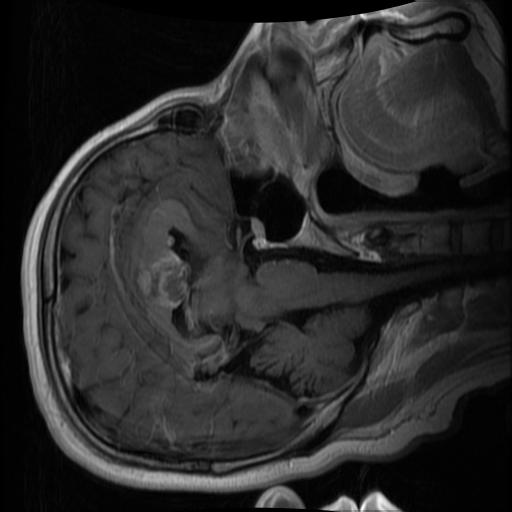glioma: (133, 251, 189, 312)
